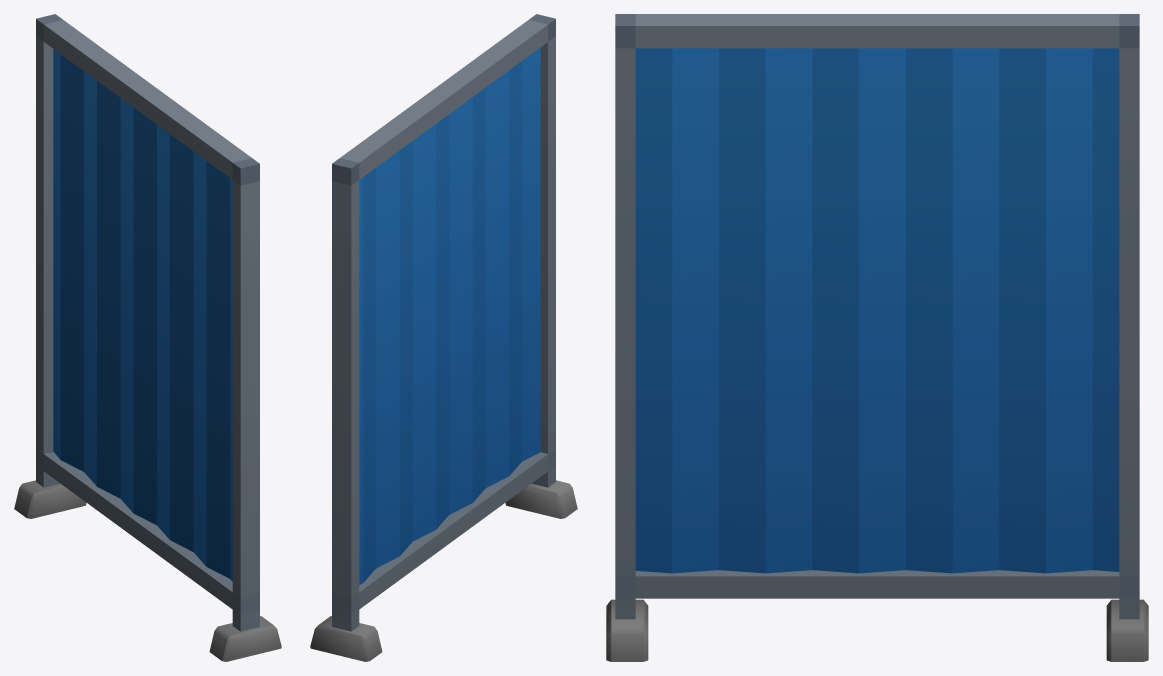
Rendered from Barier_2_1.fbx.
3 views of the same model, side by side, from view 1: azimuth 30°, elevation 25°; view 2: azimuth 150°, elevation 25°; view 3: azimuth 270°, elevation 25° (orthographic). The views are drawn at different scales.
Visible parts, largest first — view 1: Barier_2_1; view 2: Barier_2_1; view 3: Barier_2_1.
Part boxes in pixels (x1,y1,x2,y2): Barier_2_1: [14, 14, 281, 661]; Barier_2_1: [310, 14, 577, 661]; Barier_2_1: [606, 14, 1148, 661].
Size of the model in its own units: 34.35 by 268 by 211.
